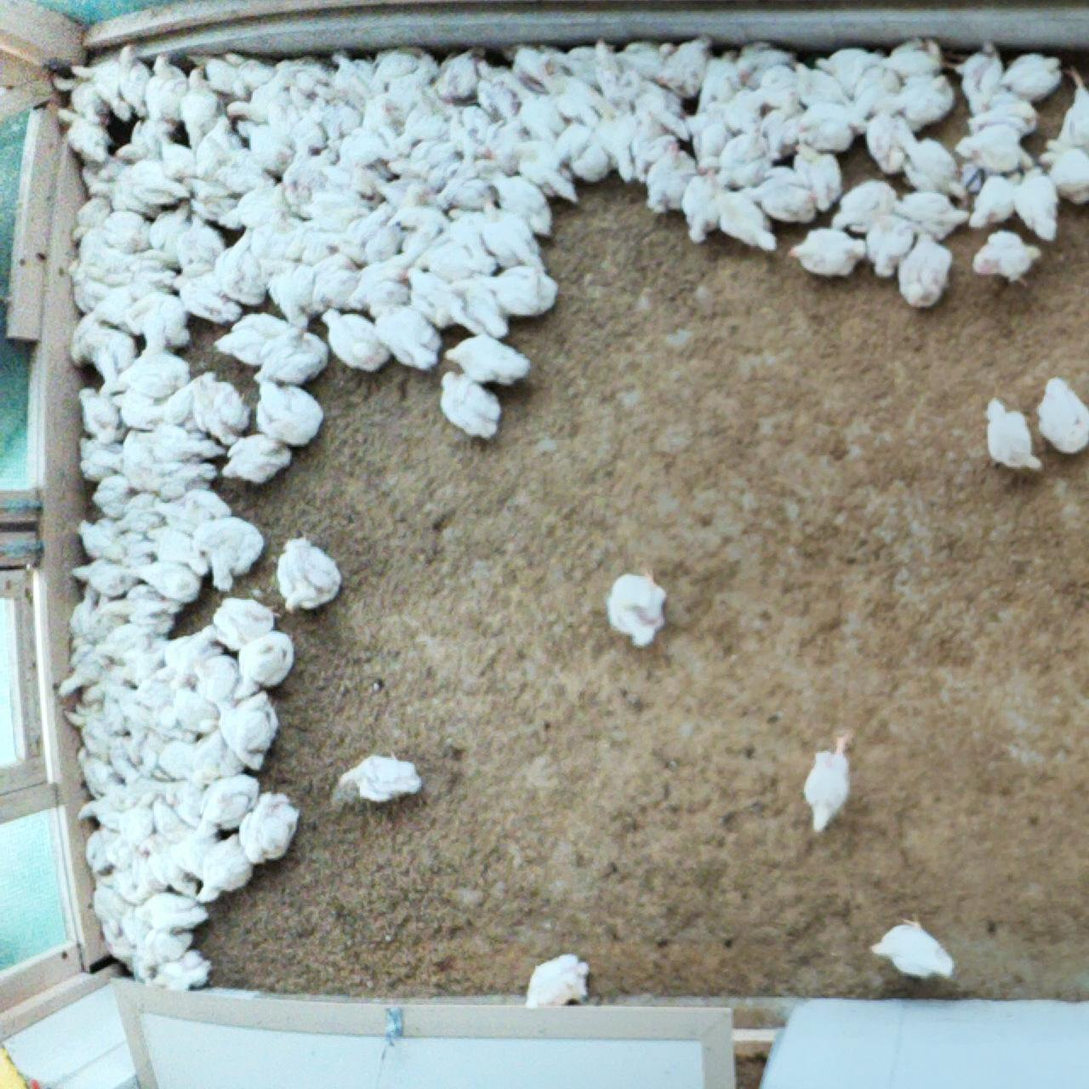chicken: (865, 911, 966, 985), (477, 192, 543, 281), (252, 378, 337, 445), (332, 750, 422, 812), (447, 333, 534, 396), (377, 304, 446, 382), (600, 570, 667, 649), (980, 393, 1041, 479), (515, 953, 602, 1012), (799, 738, 852, 834), (434, 369, 502, 443), (402, 266, 482, 328), (493, 269, 573, 330), (200, 513, 265, 586), (220, 698, 285, 771), (318, 311, 392, 375), (237, 796, 303, 866), (792, 220, 873, 277), (1031, 377, 1089, 456), (900, 232, 954, 316), (892, 131, 956, 201), (121, 323, 180, 398), (520, 140, 579, 214), (196, 771, 259, 840), (832, 175, 908, 231), (232, 630, 297, 695), (200, 524, 264, 590), (207, 595, 273, 659), (339, 101, 402, 168), (710, 191, 782, 249), (184, 373, 254, 432), (67, 61, 135, 121), (952, 120, 1026, 175), (276, 541, 342, 602), (859, 110, 917, 178), (886, 70, 957, 125), (189, 113, 250, 177), (167, 265, 242, 317), (1002, 173, 1060, 239), (116, 165, 192, 215), (619, 105, 667, 184), (66, 318, 128, 379), (793, 100, 865, 152), (649, 139, 695, 220), (215, 313, 299, 357), (183, 176, 244, 236), (789, 59, 854, 115), (967, 88, 1046, 134), (223, 435, 292, 487), (449, 289, 522, 338), (134, 564, 213, 609), (221, 237, 269, 311), (261, 328, 328, 381), (726, 132, 785, 192), (251, 203, 312, 261), (198, 841, 254, 904), (958, 36, 1007, 108), (120, 342, 189, 393), (972, 230, 1046, 277), (177, 270, 240, 325), (189, 47, 252, 100), (117, 391, 196, 433), (787, 145, 842, 205), (735, 36, 805, 83), (685, 166, 722, 253), (157, 457, 233, 499), (569, 123, 620, 185), (107, 585, 196, 620), (967, 180, 1030, 228), (148, 814, 204, 867), (283, 94, 336, 150), (476, 57, 528, 114), (819, 45, 882, 92), (119, 114, 183, 160), (242, 118, 304, 165), (1006, 49, 1069, 95), (1057, 65, 1089, 154), (687, 97, 726, 170), (889, 32, 949, 79), (271, 262, 315, 326), (633, 86, 691, 134), (365, 221, 423, 269), (212, 159, 285, 197), (264, 54, 330, 96), (1049, 145, 1089, 214), (54, 108, 107, 160), (120, 432, 174, 483), (317, 257, 367, 312), (46, 68, 102, 116), (698, 44, 740, 108), (135, 903, 216, 936), (158, 625, 220, 668), (118, 35, 156, 105), (858, 67, 905, 123), (147, 43, 182, 118), (760, 64, 804, 123), (673, 34, 716, 94), (570, 43, 622, 92), (132, 686, 185, 734), (185, 64, 218, 140), (440, 48, 489, 99), (66, 163, 119, 210), (151, 647, 208, 690), (146, 201, 194, 251), (382, 48, 442, 88), (97, 918, 147, 964), (96, 282, 152, 323), (514, 42, 565, 87), (74, 383, 116, 437), (224, 50, 274, 95), (232, 95, 291, 133), (134, 498, 198, 533), (335, 49, 378, 101), (76, 520, 133, 559), (175, 694, 226, 737), (531, 91, 574, 142), (124, 870, 183, 907), (719, 85, 772, 126), (369, 264, 412, 314), (71, 556, 130, 592), (77, 433, 123, 479), (92, 594, 139, 639), (554, 71, 601, 116), (460, 143, 517, 180), (155, 958, 217, 992), (114, 623, 163, 666), (82, 828, 128, 872), (114, 788, 157, 835), (164, 432, 228, 463), (70, 580, 100, 646), (161, 738, 203, 785), (106, 208, 157, 246), (630, 38, 673, 82), (595, 32, 630, 86), (437, 171, 480, 214), (76, 786, 118, 830), (96, 698, 141, 738), (119, 245, 169, 281), (177, 222, 222, 262), (408, 136, 455, 174), (141, 537, 200, 567), (113, 756, 165, 790), (59, 654, 101, 696), (86, 475, 128, 517), (67, 707, 108, 750), (386, 171, 426, 215), (91, 881, 137, 919), (496, 107, 547, 141), (422, 221, 464, 262), (73, 750, 116, 790), (73, 196, 110, 242), (196, 743, 247, 776), (405, 96, 447, 136), (351, 204, 393, 243), (311, 171, 358, 204), (66, 274, 111, 308), (77, 232, 115, 272), (104, 655, 148, 689), (129, 938, 177, 969), (455, 102, 493, 141), (318, 213, 353, 254), (329, 99, 368, 131)
